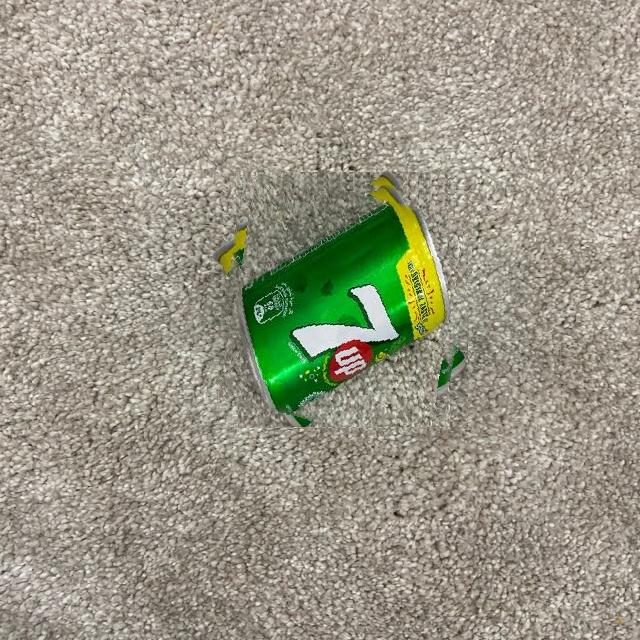recyclable: (216, 174, 468, 427)
